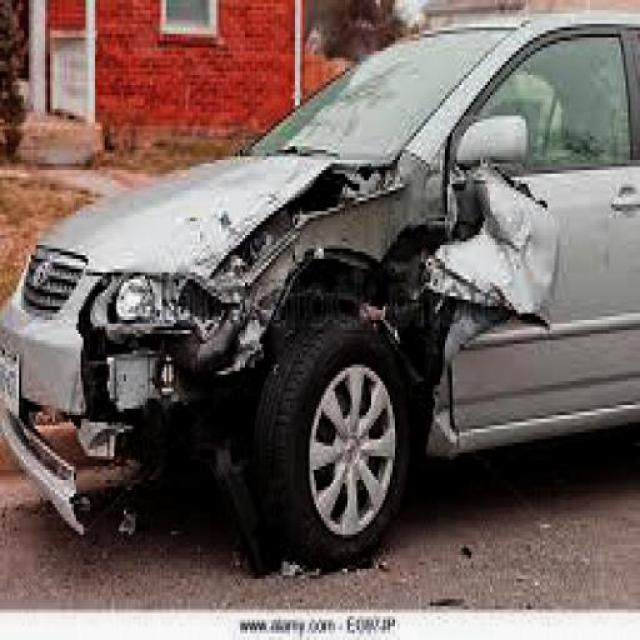Car-Damage: (11, 163, 562, 541)
